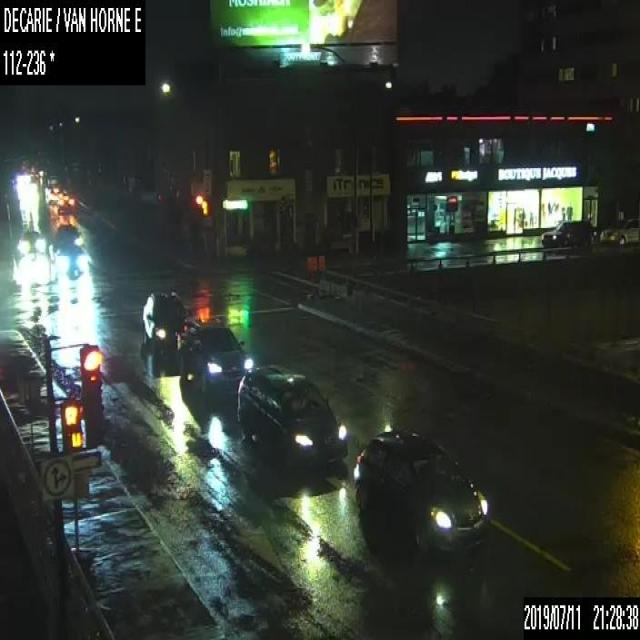construction: (68, 469, 95, 573), (18, 380, 38, 452), (304, 255, 316, 298), (318, 254, 327, 298)
vehicle: (352, 427, 489, 553), (235, 363, 348, 471), (176, 318, 253, 398), (141, 292, 191, 352), (540, 216, 595, 247), (599, 215, 639, 245), (54, 223, 82, 251), (20, 226, 43, 256), (57, 190, 74, 213), (44, 185, 60, 202)
